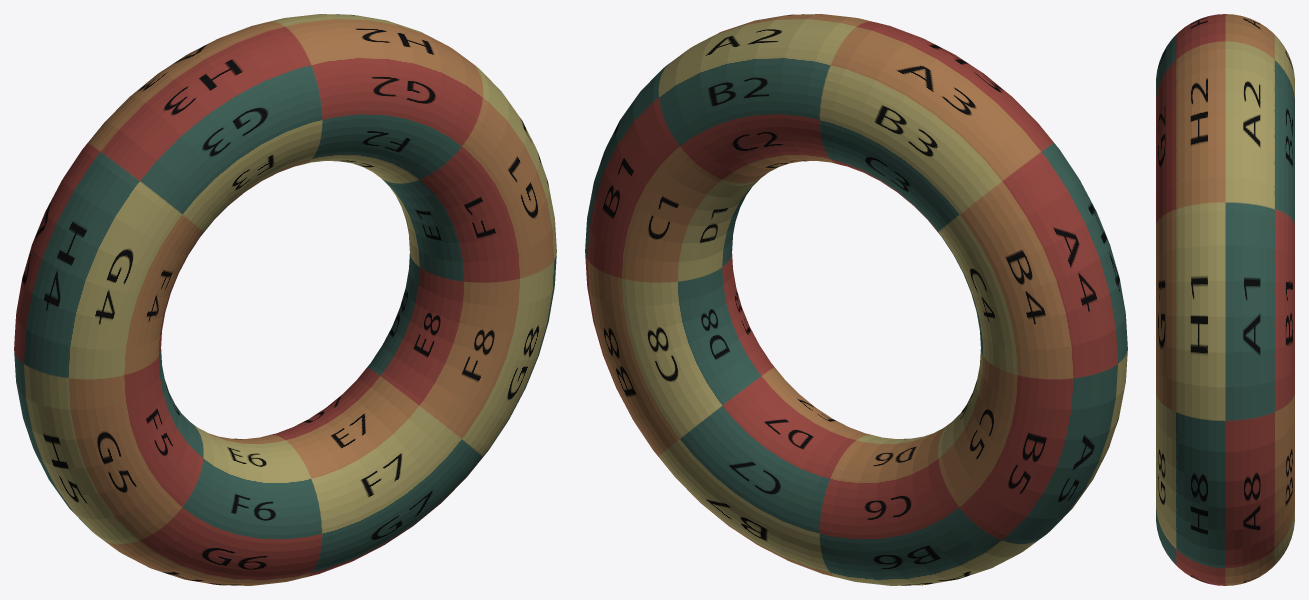
Rendered from texture_torus_R8_r11.glb.
3 renders of one model, left to right at view 1: azimuth 30°, elevation 25°; view 2: azimuth 150°, elevation 25°; view 3: azimuth 270°, elevation 25°, orthographic. The views are drawn at different scales.
Parts seen in each view (by area): view 1: world; view 2: world; view 3: world.
Boxes of the visible parts, <box> form: world: <box>14,14,556,585</box>; world: <box>585,14,1127,585</box>; world: <box>1156,14,1294,585</box>.
Bounding box in the file's own units: 20.27 × 20.23 × 4.92.
1 material, 1 textured.
